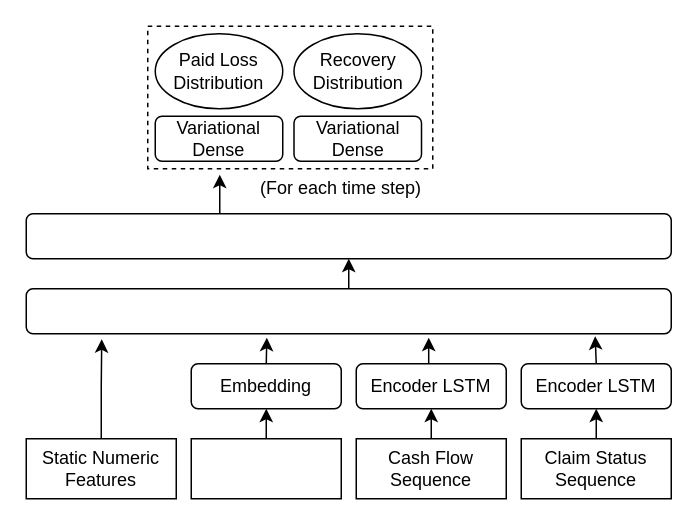
The diagram is 698 pixels wide and 525 high, and some of its shapes have lost their labels. The shapes that lost their labels are listed below. From the top down, each one's centre as x and y in pixels, then its label:
the point at 348,235: Decoder LSTM (Sequence output, length 11)
the point at 348,310: Concatenation and Repeat x 11
the point at 265,468: Static Categorical Features
